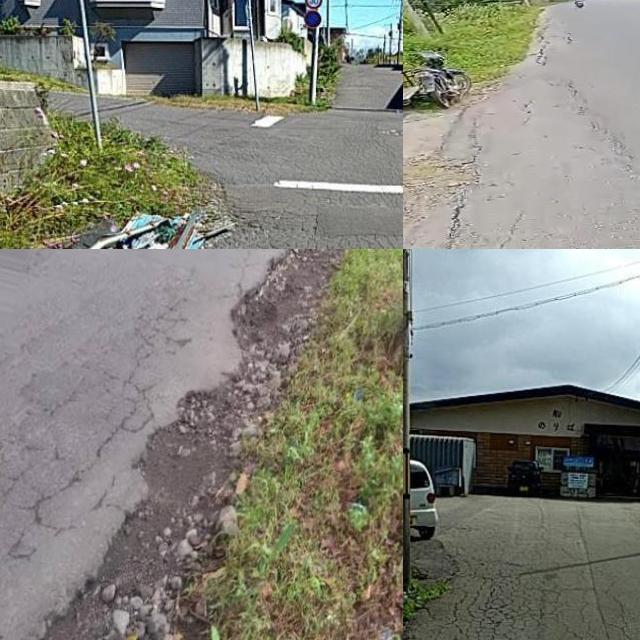Pinggir: (20, 249, 331, 640)
Retak Buaya: (422, 563, 596, 640)
